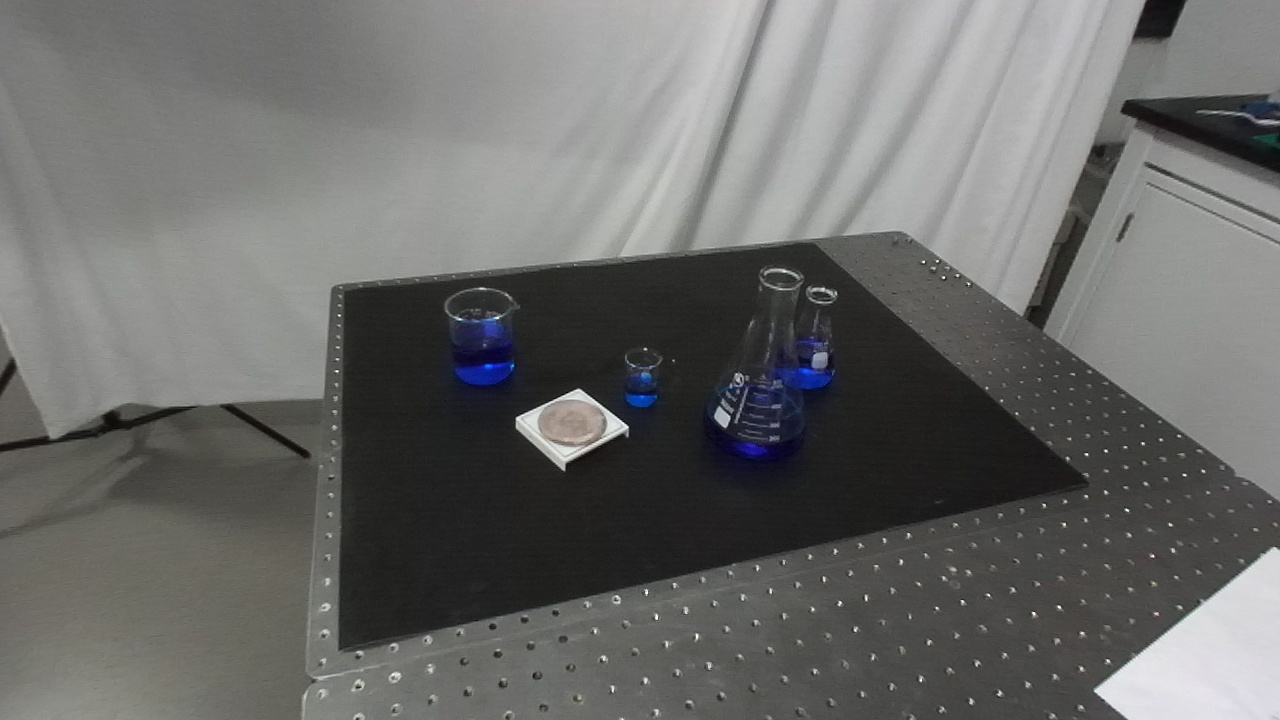glass: (709, 264, 811, 472), (444, 287, 519, 386), (783, 282, 838, 394), (623, 345, 664, 408)
plate: (516, 385, 634, 474)
